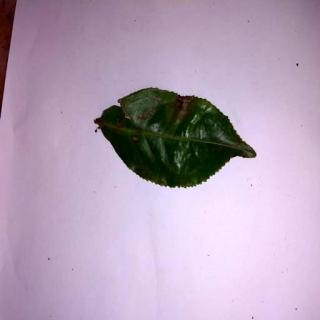Anthracnose: (96, 85, 258, 186)
